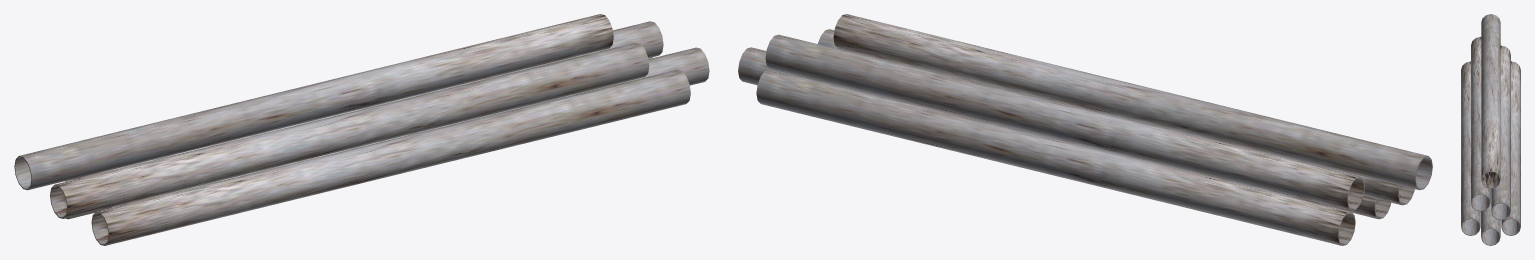
Rendered from Pipes.fbx.
3 renders of one model, left to right at view 1: azimuth 30°, elevation 25°; view 2: azimuth 150°, elevation 25°; view 3: azimuth 270°, elevation 25°, orthographic. The views are drawn at different scales.
Parts seen in each view (by area): view 1: Pipe1; view 2: Pipe1; view 3: Pipe1.
Boxes of the visible parts, x1,y1,x2,y2 form: Pipe1: [14, 14, 709, 245]; Pipe1: [738, 14, 1432, 245]; Pipe1: [1461, 14, 1520, 245].
Bounding box in the file's own units: 701 × 87.93 × 97.1.
Materials: 1 (1 with a texture image).
